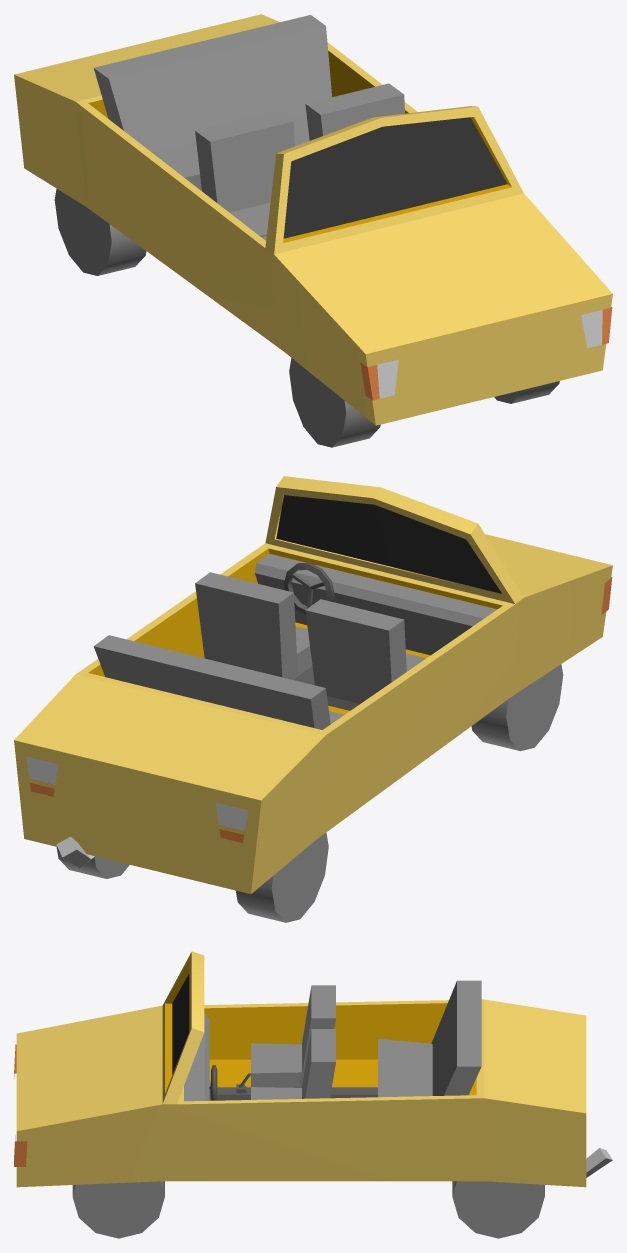
Rendered from cabrio_05.fbx.
3 views of the same model, one above another, from view 1: azimuth 30°, elevation 25°; view 2: azimuth 150°, elevation 25°; view 3: azimuth 270°, elevation 25° (orthographic). The views are drawn at different scales.
Visible parts, largest first — view 1: cabrio_05; view 2: cabrio_05; view 3: cabrio_05.
Boxes of the visible parts, x1=… form: cabrio_05: x1=14, y1=14, x2=612, y2=447; cabrio_05: x1=14, y1=476, x2=612, y2=922; cabrio_05: x1=14, y1=951, x2=612, y2=1238.
Bounding box in the file's own units: 1.6 × 1.63 × 4.1.
